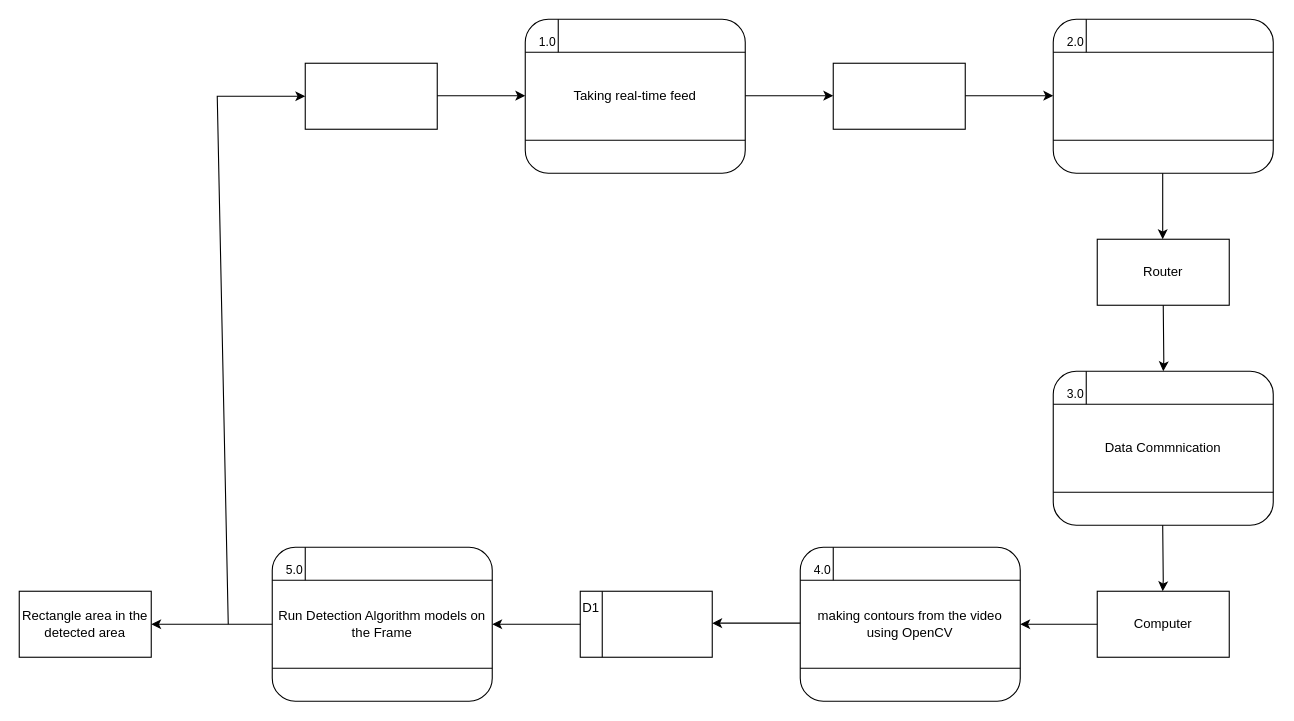
Some shapes in this 1294 by 721 pixel diagram are drawn without their labels. The shapes that lost their labels are listed below. From the top down, each one's box as (x1, y1, x2, y2) in pixels, then its label:
(304, 62, 437, 129): Camera
(832, 62, 965, 129): Switch
(1052, 18, 1273, 173): Sending Video Feed
(579, 590, 712, 657): Frame
